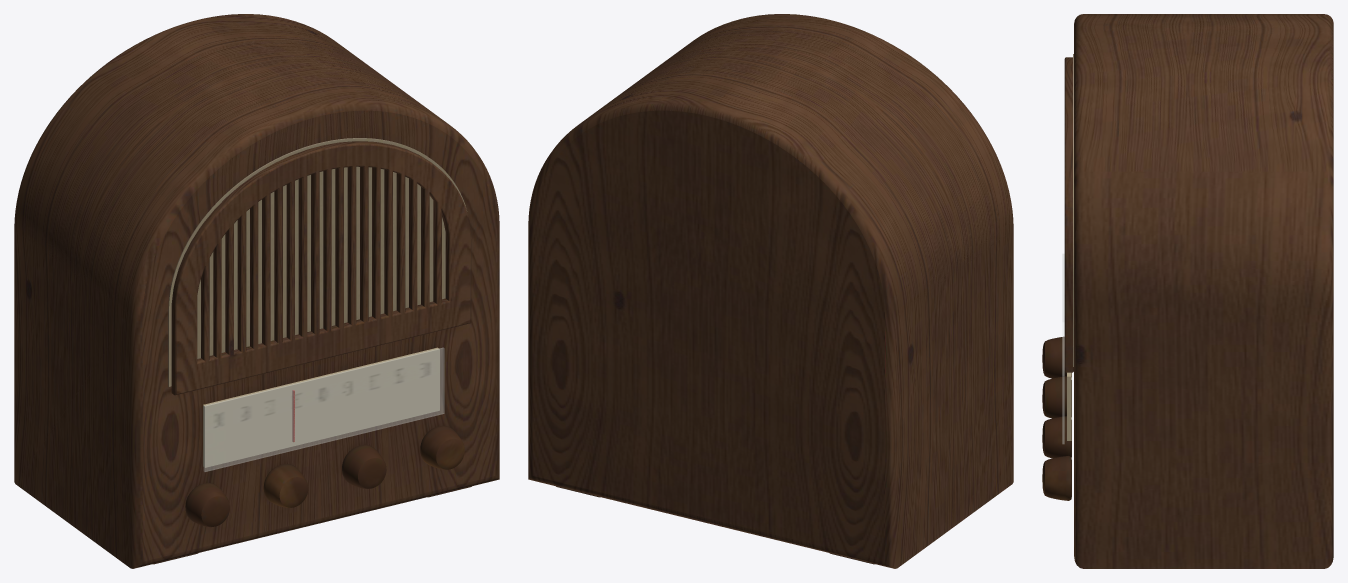
File: tube_radio.glb
The picture shows the model from 3 angles, left to right: view 1: azimuth 30°, elevation 25°; view 2: azimuth 150°, elevation 25°; view 3: azimuth 270°, elevation 25°; orthographic projection. The views are drawn at different scales.
Parts seen in each view (by area): view 1: tube_radio; view 2: tube_radio; view 3: tube_radio.
Boxes of the visible parts, x1=… form: tube_radio: x1=14, y1=14, x2=499, y2=568; tube_radio: x1=528, y1=14, x2=1013, y2=568; tube_radio: x1=1042, y1=14, x2=1333, y2=568.
Size of the model in its own units: 0.376 by 0.4129 by 0.247.
Materials: 2 (1 with a texture image).
